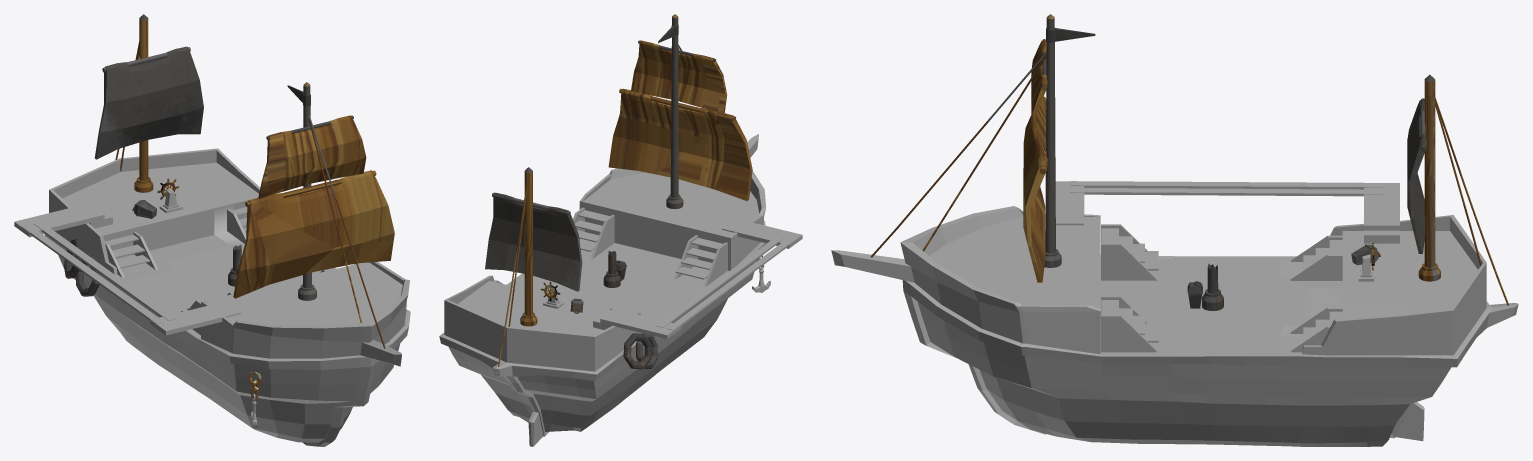
File: duck boat broken mast + plank fixed uv.fbx
3 views of the same model, side by side, from view 1: azimuth 30°, elevation 25°; view 2: azimuth 150°, elevation 25°; view 3: azimuth 270°, elevation 25° (orthographic). The views are drawn at different scales.
Visible parts, largest first — view 1: pCube2_Original1, polySurface6, polySurface8, pCube10, pCube43, pCube44, sweep10, polySurface7, polySurface5, pTorus3; view 2: pCube2_Original1, polySurface6, polySurface8, pCube43, pCube10, pCube41, polySurface5, polySurface7, pTorus4, sweep10, polySurface20, pTorus3; view 3: pCube2_Original1, pCube43, pCube41, pCube44, polySurface6, polySurface7, polySurface5, sweep10, polySurface8, pCube10, polySurface20.
Part boxes in pixels (x1,y1,x2,y2): pCube2_Original1: (44, 148, 410, 446); polySurface6: (233, 170, 394, 298); polySurface8: (94, 46, 203, 159); pCube10: (258, 115, 366, 198); pCube43: (14, 203, 240, 335); pCube44: (104, 207, 247, 277); sweep10: (115, 41, 385, 348); polySurface7: (134, 14, 153, 192); polySurface5: (298, 82, 316, 300); pTorus3: (76, 256, 100, 296); pCube2_Original1: (439, 134, 766, 446); polySurface6: (608, 88, 752, 200); polySurface8: (485, 192, 582, 291); pCube43: (593, 218, 802, 339); pCube10: (631, 40, 727, 113); pCube41: (573, 207, 727, 286); polySurface5: (666, 14, 683, 209); polySurface7: (520, 167, 537, 326); pTorus4: (623, 333, 652, 369); sweep10: (498, 44, 703, 366); polySurface20: (603, 250, 620, 287); pTorus3: (636, 333, 657, 368); pCube2_Original1: (831, 206, 1518, 446); pCube43: (1055, 181, 1399, 243); pCube41: (1101, 224, 1158, 352); pCube44: (1290, 235, 1342, 352); polySurface6: (1023, 96, 1047, 282); polySurface7: (1418, 74, 1440, 281); polySurface5: (1044, 14, 1061, 267); sweep10: (870, 51, 1508, 305); polySurface8: (1407, 98, 1426, 253); pCube10: (1031, 39, 1047, 160); polySurface20: (1202, 263, 1223, 310).
Bounding box in the file's own units: 9.37 × 14.1 × 20.63.
